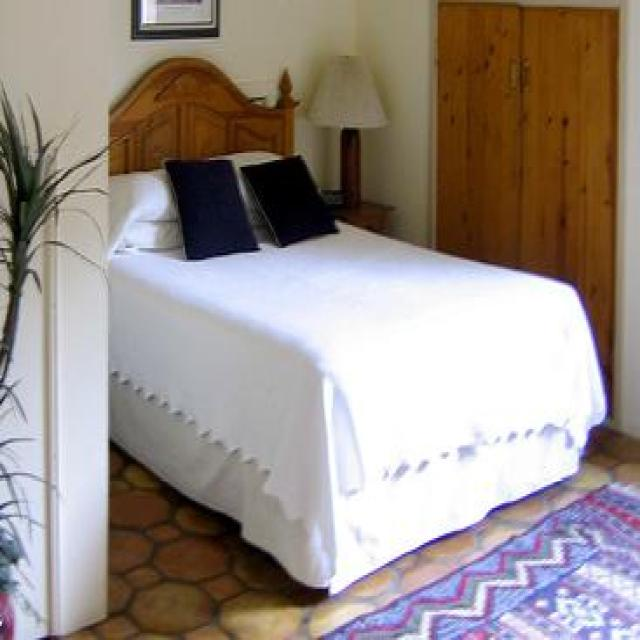bed: (107, 51, 606, 600)
